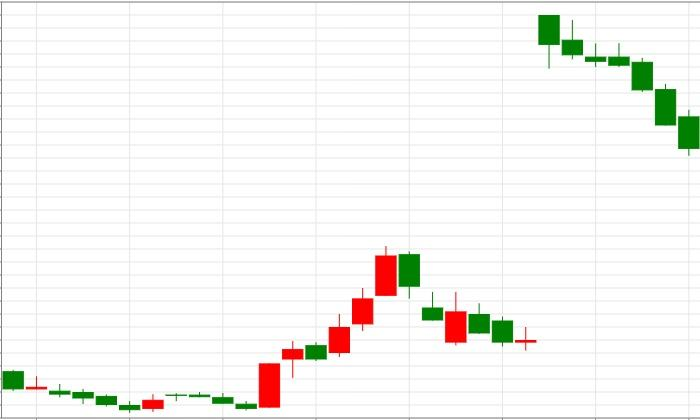bullish_engulfing_rise: (375, 245, 468, 345)
